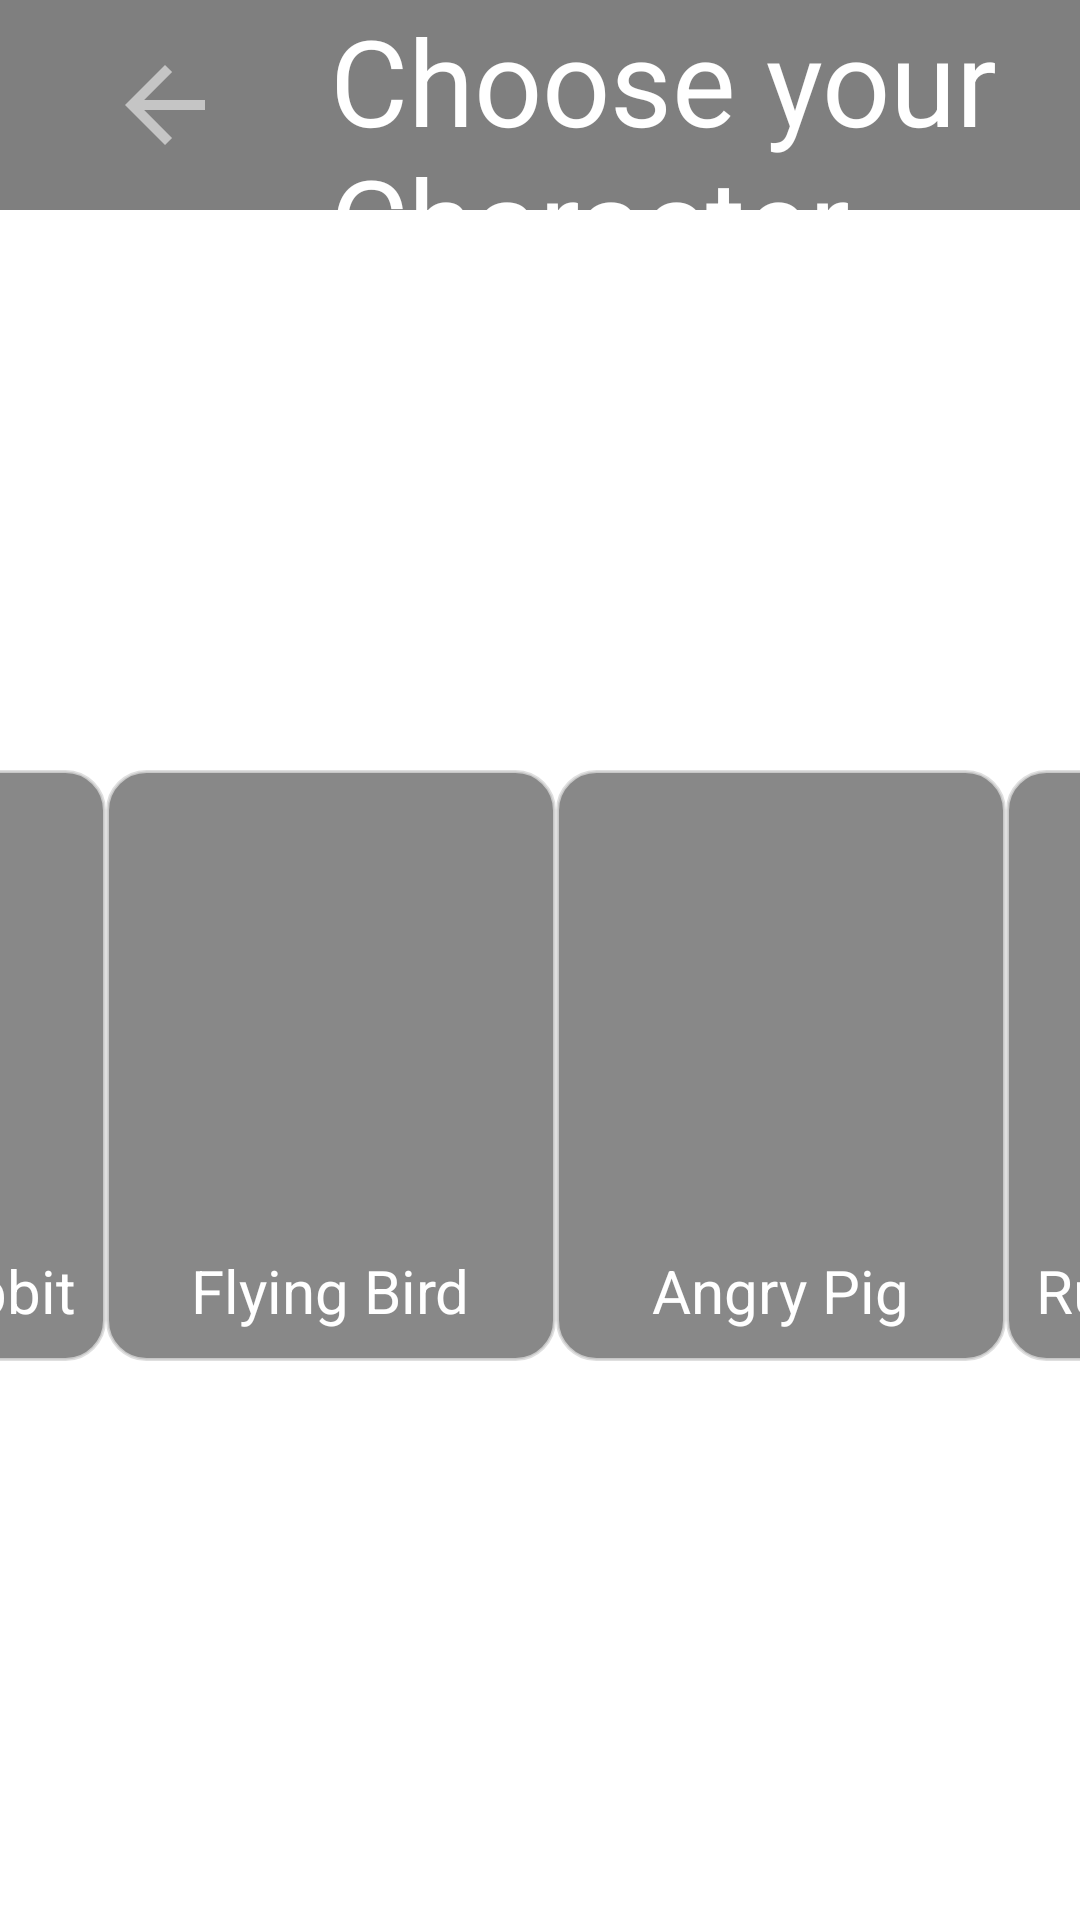

Screen size 1080×1920. Icon name, then its box in pixels as (x1, y1, x2, y2):
arrow back: (125, 65, 205, 145)
